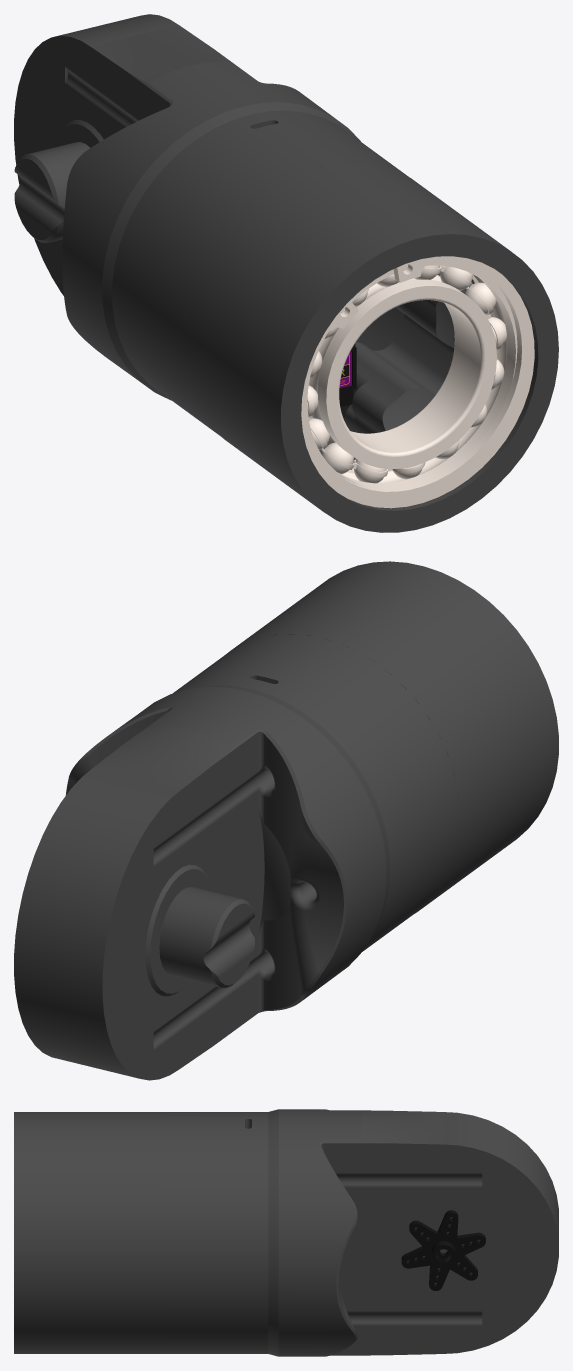
Rendered from ARM4.gltf.
3 views of the same model, one above another, from view 1: azimuth 30°, elevation 25°; view 2: azimuth 150°, elevation 25°; view 3: azimuth 270°, elevation 25° (orthographic). The views are drawn at different scales.
Parts seen in each view (by area): view 1: MROS_Arm4-1, MROS_Arm4_EXT-1, radial ball bearing_68_din-1, circlip for bores normal_din-1, servoMotorMG996R-1; view 2: MROS_Arm4-1, MROS_Arm4_EXT-1; view 3: MROS_Arm4-1, MROS_Arm4_EXT-1, attachmentStar-2.
Part boxes in pixels (x1=…): MROS_Arm4-1: x1=14, y1=14, x2=429, y2=435; MROS_Arm4_EXT-1: x1=182, y1=161, x2=558, y2=532; radial ball bearing_68_din-1: x1=306, y1=260, x2=517, y2=488; circlip for bores normal_din-1: x1=301, y1=256, x2=534, y2=508; servoMotorMG996R-1: x1=339, y1=343, x2=356, y2=408; MROS_Arm4-1: x1=14, y1=634, x2=459, y2=1080; MROS_Arm4_EXT-1: x1=227, y1=561, x2=558, y2=913; MROS_Arm4-1: x1=163, y1=1109, x2=558, y2=1356; MROS_Arm4_EXT-1: x1=14, y1=1112, x2=162, y2=1353; attachmentStar-2: x1=401, y1=1210, x2=485, y2=1290.
Size of the model in its own units: 0.09 by 0.09 by 0.1981.
